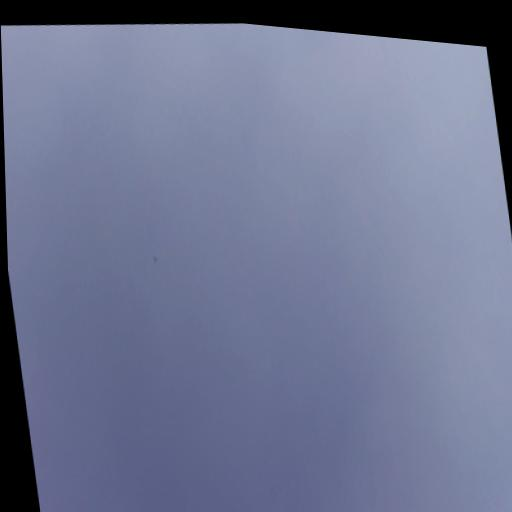drones: (152, 253, 159, 264)
